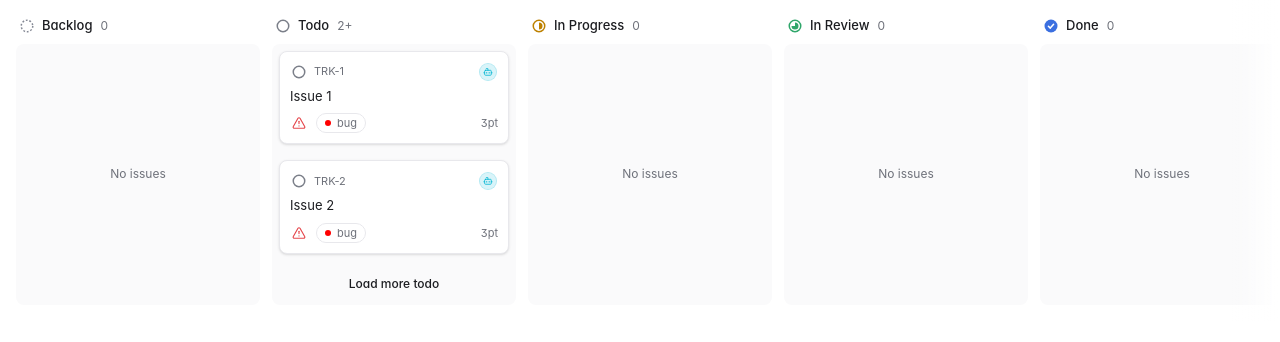
Test: Board › shows an error when loading more fails
This screenshot has width=1280, height=342.
Click the button "Load more todo": (394,284) [279,270,509,298]
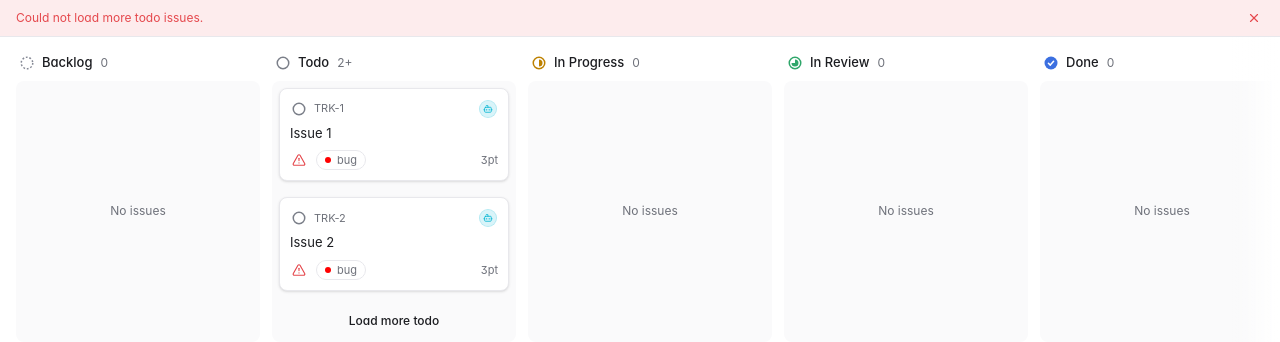
Expected: the message reads "Could not load more todo issues.", [16,10,203,25]
